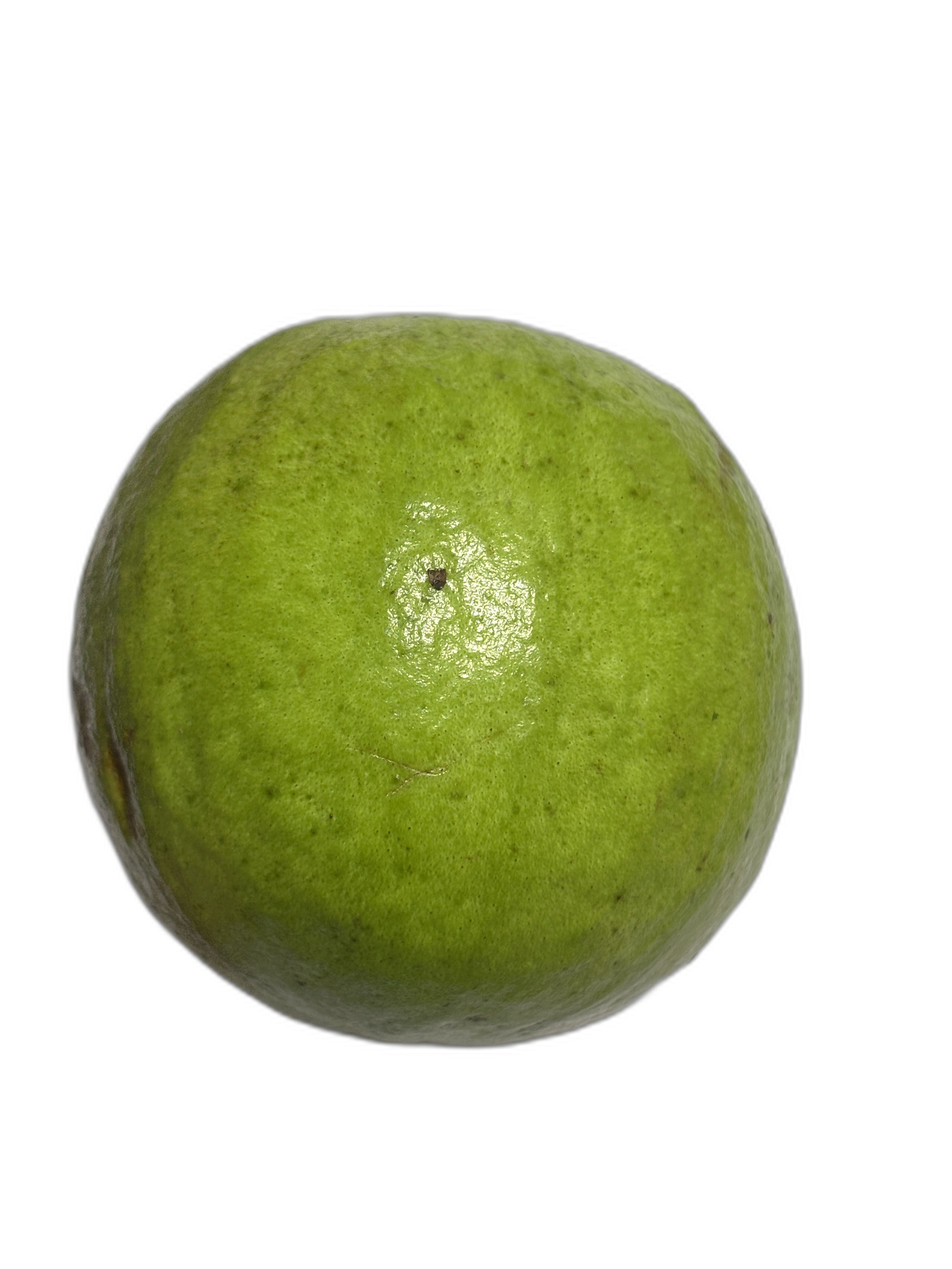guava: (231, 189, 862, 1123)
